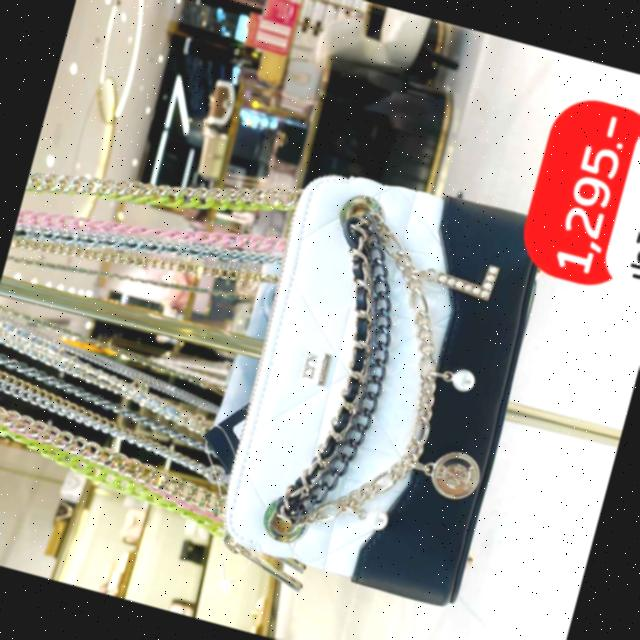handbag: (184, 151, 562, 633)
